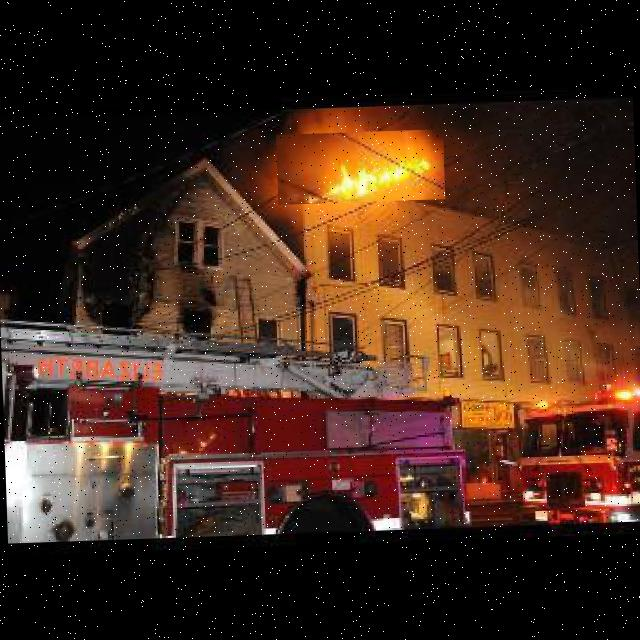fire: (276, 128, 444, 204)
